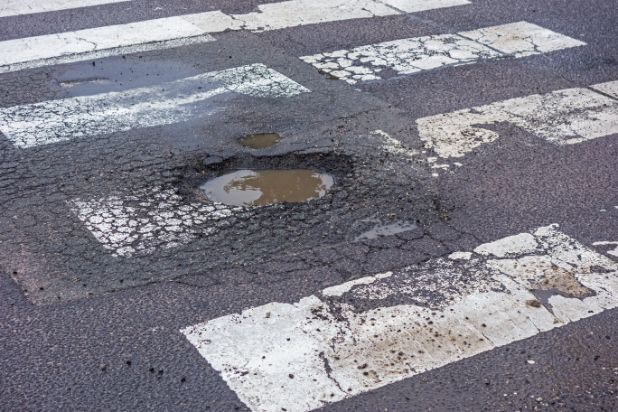pothole: (173, 143, 360, 212)
